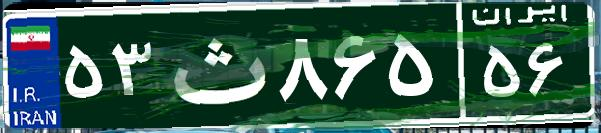3: (110, 28, 158, 105)
5: (385, 28, 445, 110), (57, 26, 110, 107), (475, 38, 525, 113)
6: (330, 28, 385, 110), (525, 38, 570, 115)
8: (273, 28, 330, 110)
ث: (158, 15, 273, 115)
